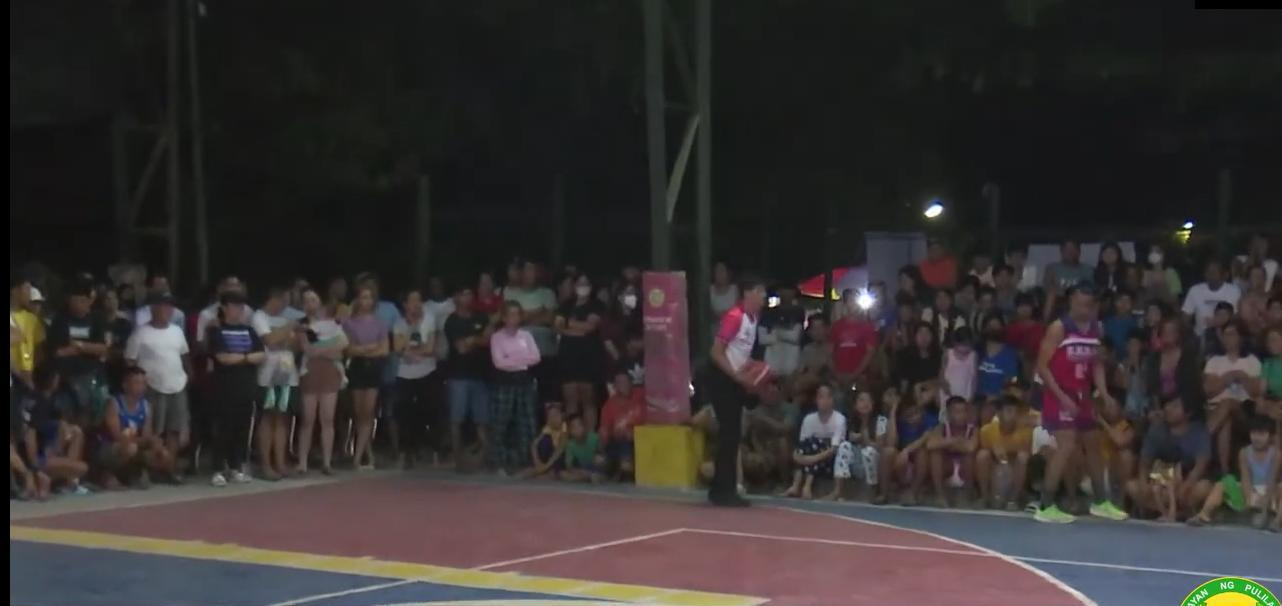ball: (747, 362, 774, 392)
human: (1007, 272, 1145, 537), (685, 267, 782, 522)
